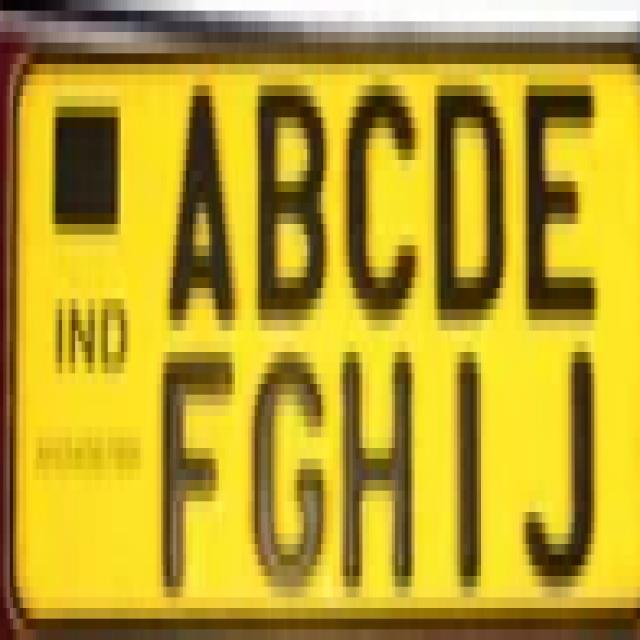A: (163, 84, 236, 320)
B: (250, 65, 331, 335)
C: (342, 67, 419, 322)
D: (430, 69, 510, 332)
E: (521, 71, 598, 332)
F: (157, 344, 240, 596)
G: (252, 344, 330, 596)
H: (337, 335, 421, 605)
I: (450, 335, 494, 605)
J: (520, 343, 600, 610)
